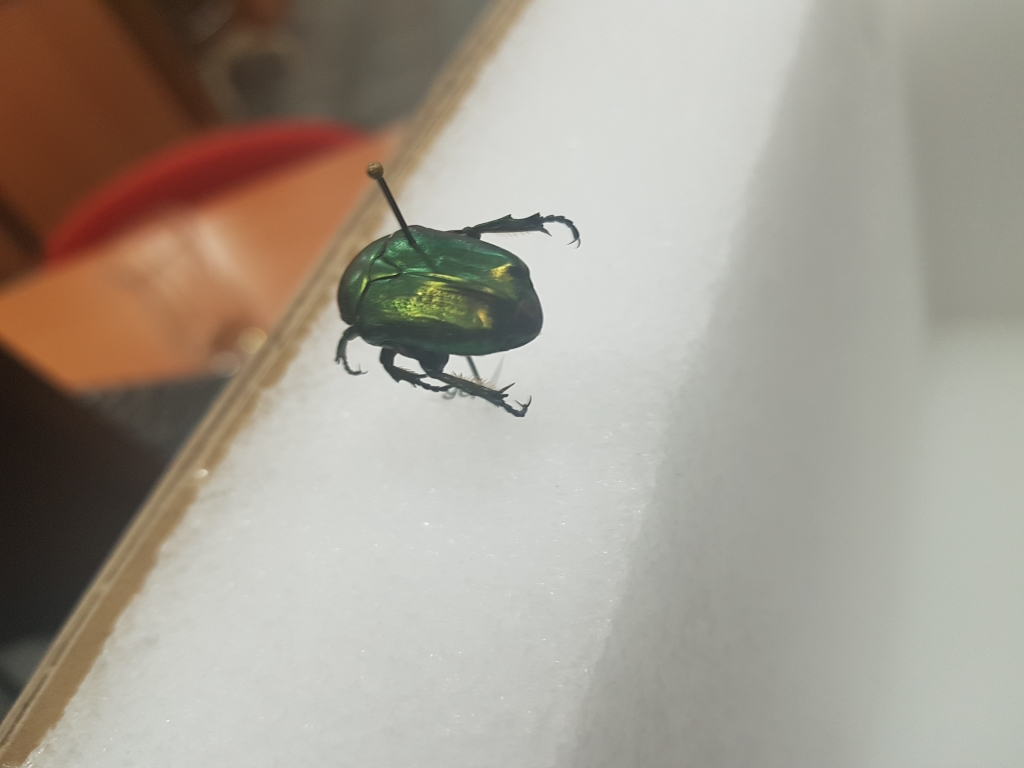Cetonia_aurata: (318, 201, 583, 425)
